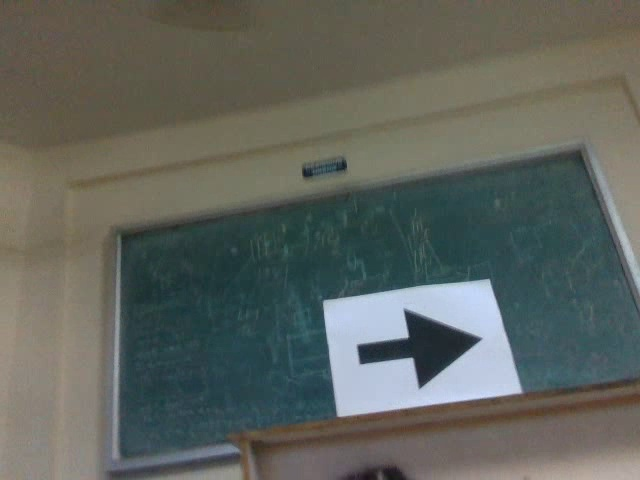Right: (347, 303, 489, 392)
